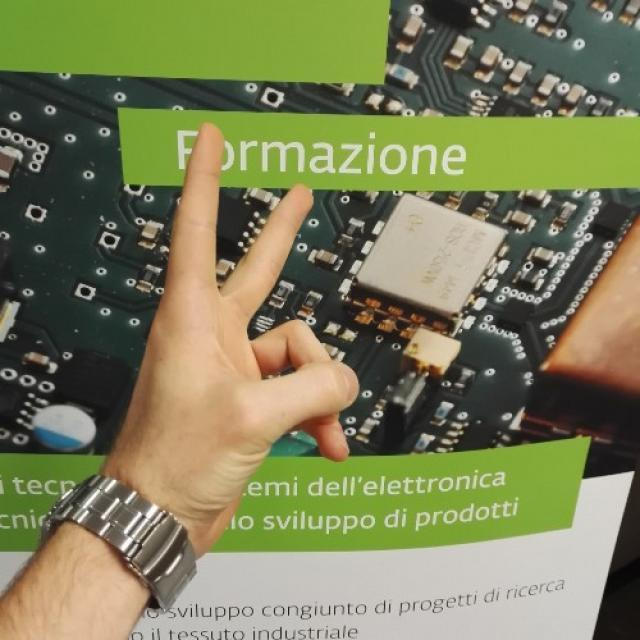scissors: (138, 120, 354, 462)
